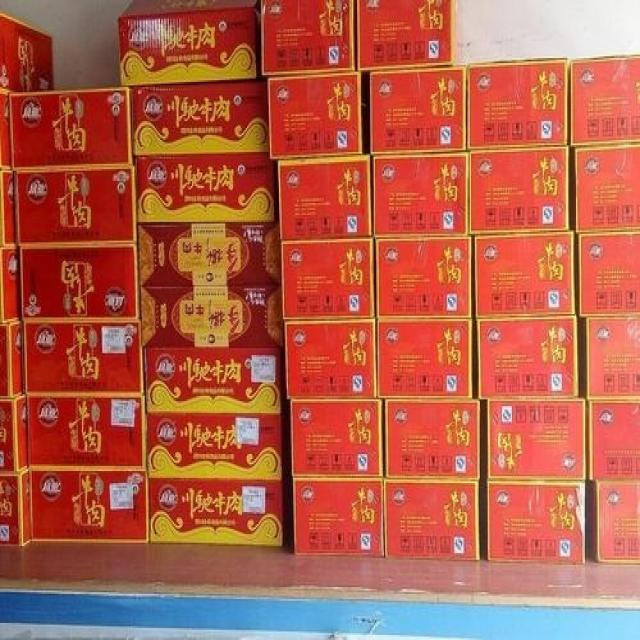box: (116, 0, 260, 85), (132, 80, 269, 155), (9, 87, 132, 169), (134, 152, 274, 224), (14, 166, 134, 246), (467, 58, 568, 150), (23, 321, 145, 396), (20, 244, 138, 321), (138, 224, 282, 287), (143, 346, 282, 411), (468, 147, 571, 234), (148, 480, 283, 546), (476, 314, 580, 399), (28, 469, 147, 543), (268, 72, 369, 159), (147, 415, 280, 481), (141, 285, 284, 346), (474, 232, 575, 317), (27, 396, 146, 468), (370, 67, 466, 154), (488, 481, 586, 565), (278, 154, 372, 241), (486, 399, 586, 480), (376, 317, 474, 399), (374, 152, 468, 237), (383, 478, 479, 560), (376, 237, 474, 317), (385, 399, 480, 478), (284, 317, 376, 398), (292, 476, 385, 556), (282, 239, 374, 319), (260, 0, 355, 75), (291, 399, 383, 474), (356, 0, 454, 68), (571, 53, 640, 147), (575, 143, 640, 232), (579, 232, 640, 316), (579, 316, 640, 399), (586, 483, 640, 561), (588, 401, 640, 480), (0, 14, 54, 90), (0, 469, 32, 546), (0, 398, 27, 474), (0, 323, 22, 399), (0, 249, 20, 326), (0, 172, 15, 247), (0, 94, 10, 167)
